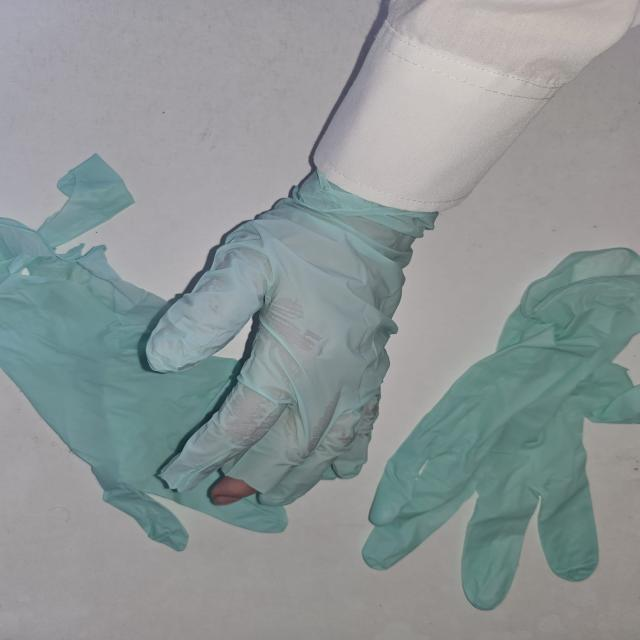gloves_damaged: (142, 167, 453, 508)
